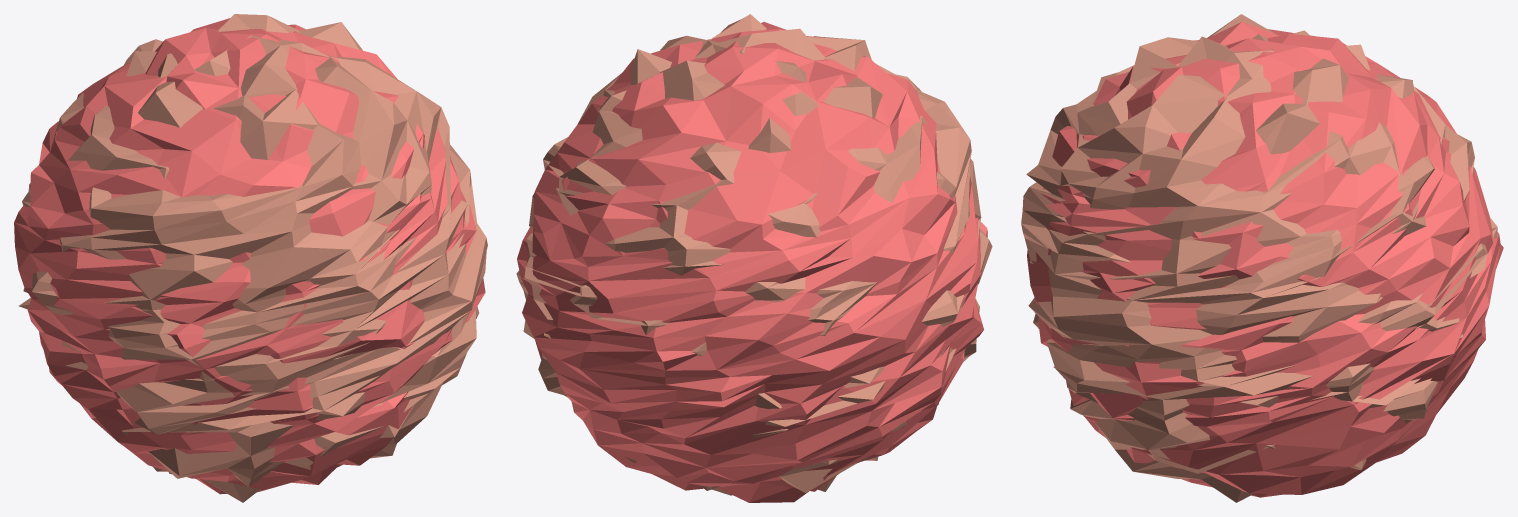
File: mars.gltf
3 views of the same model, side by side, from view 1: azimuth 30°, elevation 25°; view 2: azimuth 150°, elevation 25°; view 3: azimuth 270°, elevation 25° (orthographic).
Parts seen in each view (by area): view 1: Mars_Sphere_23, Mars_Sphere_16; view 2: Mars_Sphere_16, Mars_Sphere_23; view 3: Mars_Sphere_16, Mars_Sphere_23.
Boxes of the visible parts, left/top/right/bottom form: Mars_Sphere_23: left=19, top=14, right=487, bottom=502; Mars_Sphere_16: left=14, top=18, right=485, bottom=494; Mars_Sphere_16: left=517, top=22, right=987, bottom=502; Mars_Sphere_23: left=516, top=14, right=992, bottom=495; Mars_Sphere_16: left=1027, top=21, right=1503, bottom=497; Mars_Sphere_23: left=1021, top=14, right=1497, bottom=502.
Size of the model in its own units: 0.0109 by 0.0107 by 0.0108.
